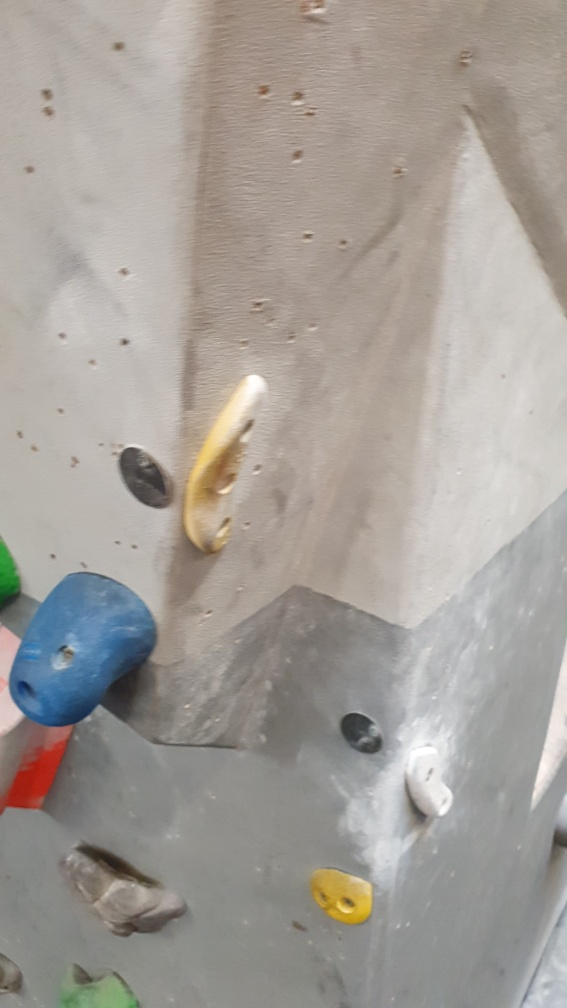Hand Start: (118, 443, 174, 512), (340, 710, 388, 757)
Jug: (56, 840, 191, 943)
